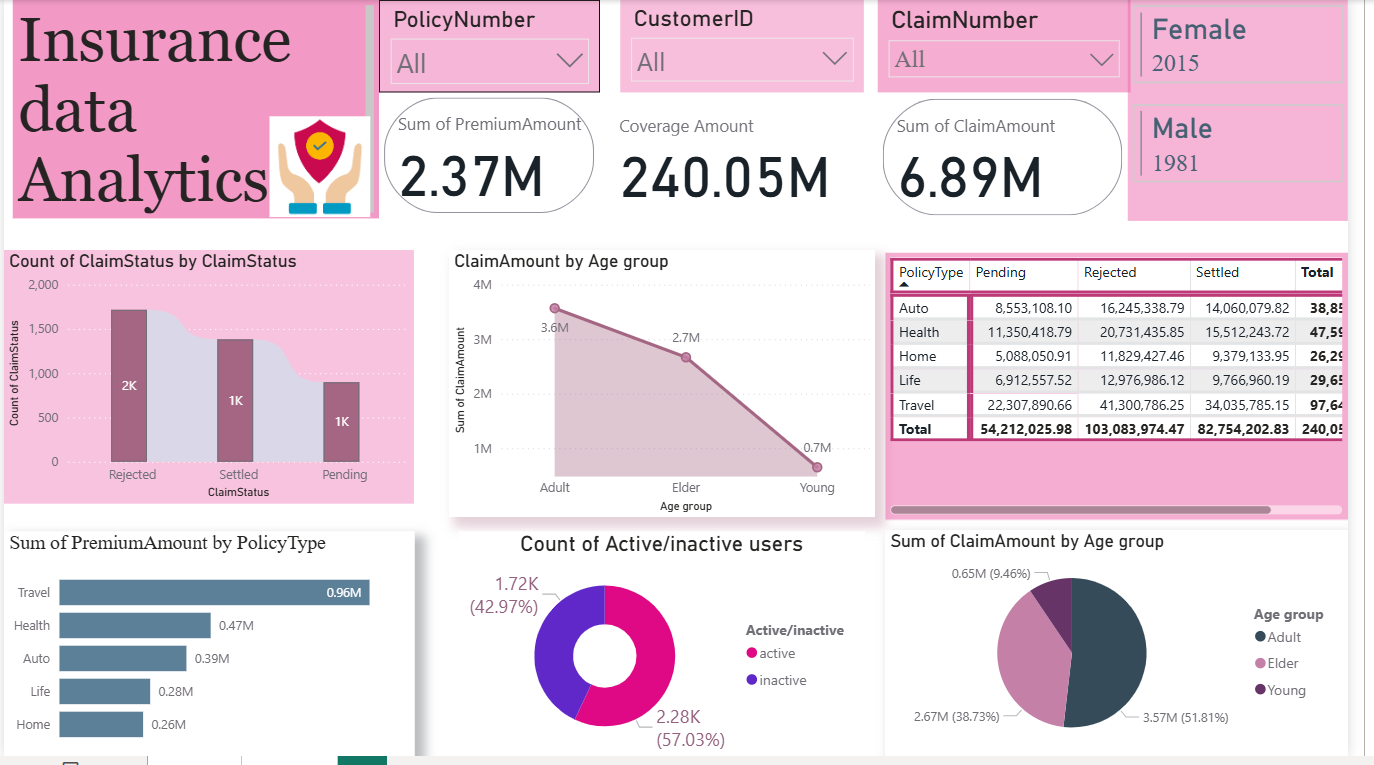

This screenshot's page, from the dashboard's own definition file:
{"tool":"powerbi","page":{"name":"Page 1","canvas":[1280,720],"ordinal":0},"visuals":[{"type":"slicer","fields":{"Values":["InsuranceData.ClaimNumber"]},"box":[839.7,0,232.8,88.1],"z":0},{"type":"slicer","fields":{"Values":["InsuranceData.PolicyNumber"]},"box":[357.1,0,209.9,88.1],"z":1000},{"type":"slicer","fields":{"Values":["InsuranceData.CustomerID"]},"box":[586.3,0,218.4,88.1],"z":2000},{"type":"textbox","box":[8.3,0,317.9,150],"z":3000},{"type":"cardVisual","fields":{"Data":["Sum(InsuranceData.PremiumAmount)"]},"box":[311.3,106.2,243.7,120.6],"z":4000},{"type":"cardVisual","fields":{"Data":["Sum(InsuranceData.CoverageAmount)"]},"box":[555,106.2,252.1,120.6],"z":5000},{"type":"cardVisual","fields":{"Data":["Sum(InsuranceData.ClaimAmount)"]},"box":[820.4,106.2,237.7,120.6],"z":6000},{"type":"multiRowCard","fields":{"Values":["InsuranceData.Gender","CountNonNull(InsuranceData.Gender)"]},"box":[1070.1,9.7,209.9,259.4],"z":7000},{"type":"ribbonChart","fields":{"Category":["InsuranceData.ClaimStatus"],"Y":["CountNonNull(InsuranceData.ClaimStatus)"]},"box":[0,241.3,404.2,242.5],"z":8000},{"type":"barChart","fields":{"Y":["Sum(InsuranceData.PremiumAmount)"],"Category":["InsuranceData.PolicyType"]},"box":[0,505.5,390.9,214.7],"z":9000},{"type":"lineChart","title":" ClaimAmount by Age group","fields":{"Category":["InsuranceData.Age group"],"Y":["Sum(InsuranceData.ClaimAmount)"]},"box":[453.2,240.5,385.6,254.4],"z":10000},{"type":"donutChart","title":"Count of Active/inactive users","fields":{"Category":["InsuranceData.Active/inactive"],"Y":["CountNonNull(InsuranceData.Active/inactive)"]},"box":[433.1,505.5,386.1,214.7],"z":11000},{"type":"pivotTable","fields":{"Rows":["InsuranceData.PolicyType"],"Columns":["InsuranceData.ClaimStatus"],"Values":["Sum(InsuranceData.CoverageAmount)"]},"box":[838.8,240.5,441.2,200.7],"z":12000},{"type":"pieChart","fields":{"Category":["InsuranceData.Age group"],"Y":["Sum(InsuranceData.ClaimAmount)"]},"box":[839,505,441,215],"z":13000}]}

Visuals, with their boxes in screenshot pixels (x1, y1, x2, y2), scaled from the page's 1280x720 canvas onto the 1374x765 screenshot:
slicer - InsuranceData.ClaimNumber: select_region(901, 0, 1151, 94)
slicer - InsuranceData.PolicyNumber: select_region(383, 0, 609, 94)
slicer - InsuranceData.CustomerID: select_region(629, 0, 864, 94)
textbox: select_region(9, 0, 350, 159)
cardVisual - Sum(InsuranceData.PremiumAmount): select_region(334, 113, 596, 241)
cardVisual - Sum(InsuranceData.CoverageAmount): select_region(596, 113, 866, 241)
cardVisual - Sum(InsuranceData.ClaimAmount): select_region(881, 113, 1136, 241)
multiRowCard - InsuranceData.Gender x CountNonNull(InsuranceData.Gender): select_region(1149, 10, 1373, 286)
ribbonChart - InsuranceData.ClaimStatus x CountNonNull(InsuranceData.ClaimStatus): select_region(0, 256, 434, 514)
barChart - Sum(InsuranceData.PremiumAmount) x InsuranceData.PolicyType: select_region(0, 537, 420, 764)
" ClaimAmount by Age group" lineChart: select_region(486, 256, 900, 526)
"Count of Active/inactive users" donutChart: select_region(465, 537, 879, 764)
pivotTable - InsuranceData.PolicyType x InsuranceData.ClaimStatus: select_region(900, 256, 1373, 469)
pieChart - InsuranceData.Age group x Sum(InsuranceData.ClaimAmount): select_region(901, 537, 1373, 764)
